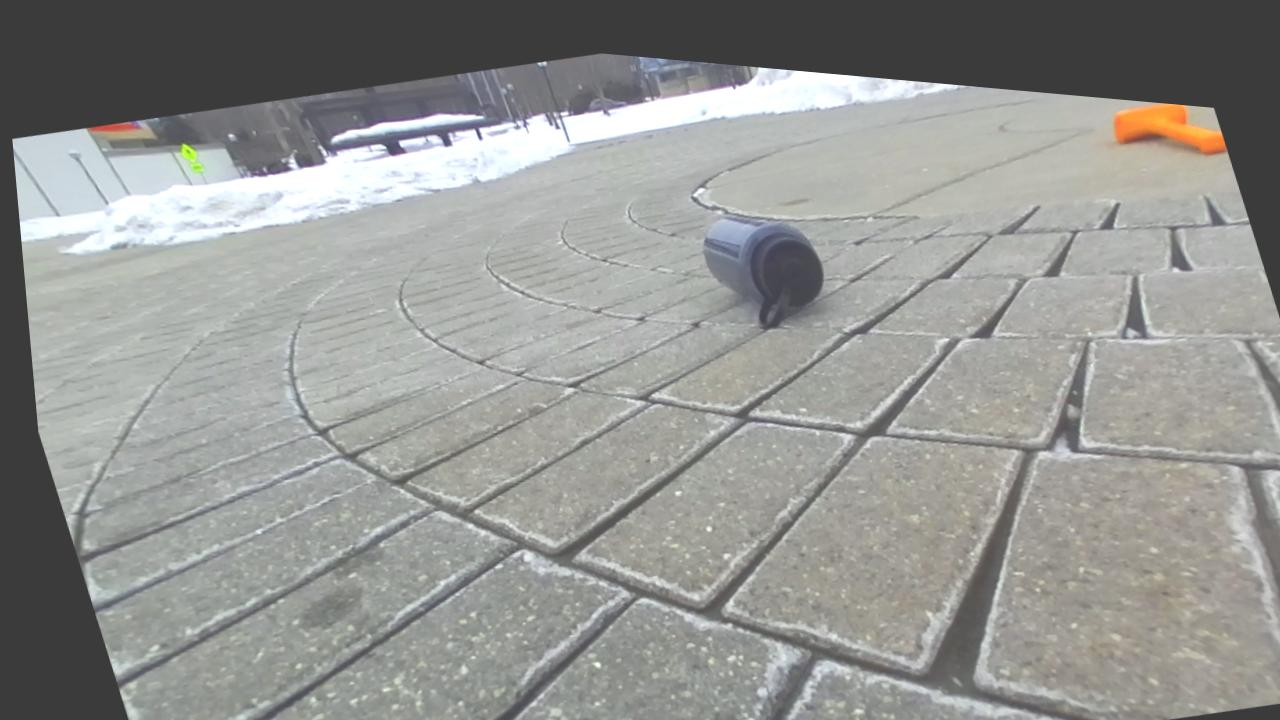bottle: (702, 217, 823, 326)
mallet: (1113, 104, 1226, 153)
